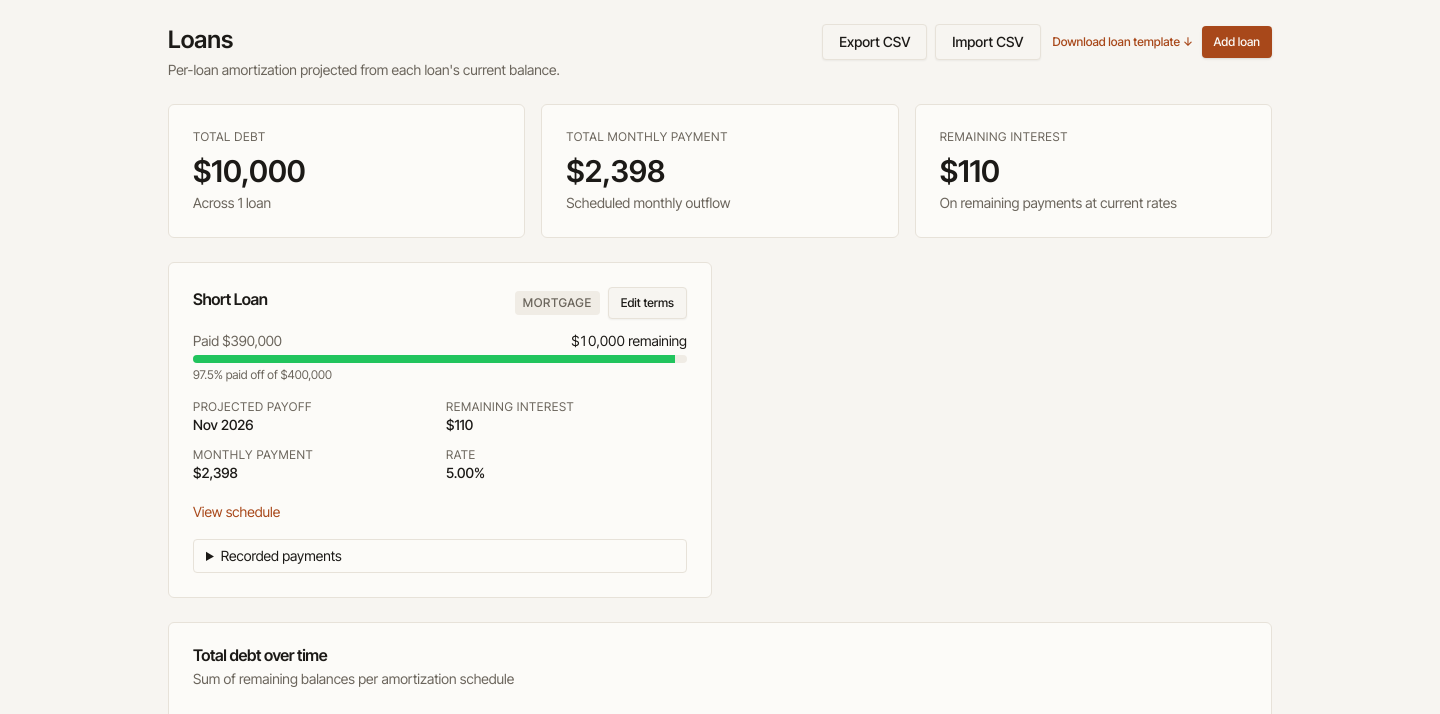
it: Loans page › handles a short loan (< 60 months) without truncation
Click the button "View schedule": {"x": 237, "y": 512} x1=193 y1=502 x2=280 y2=522
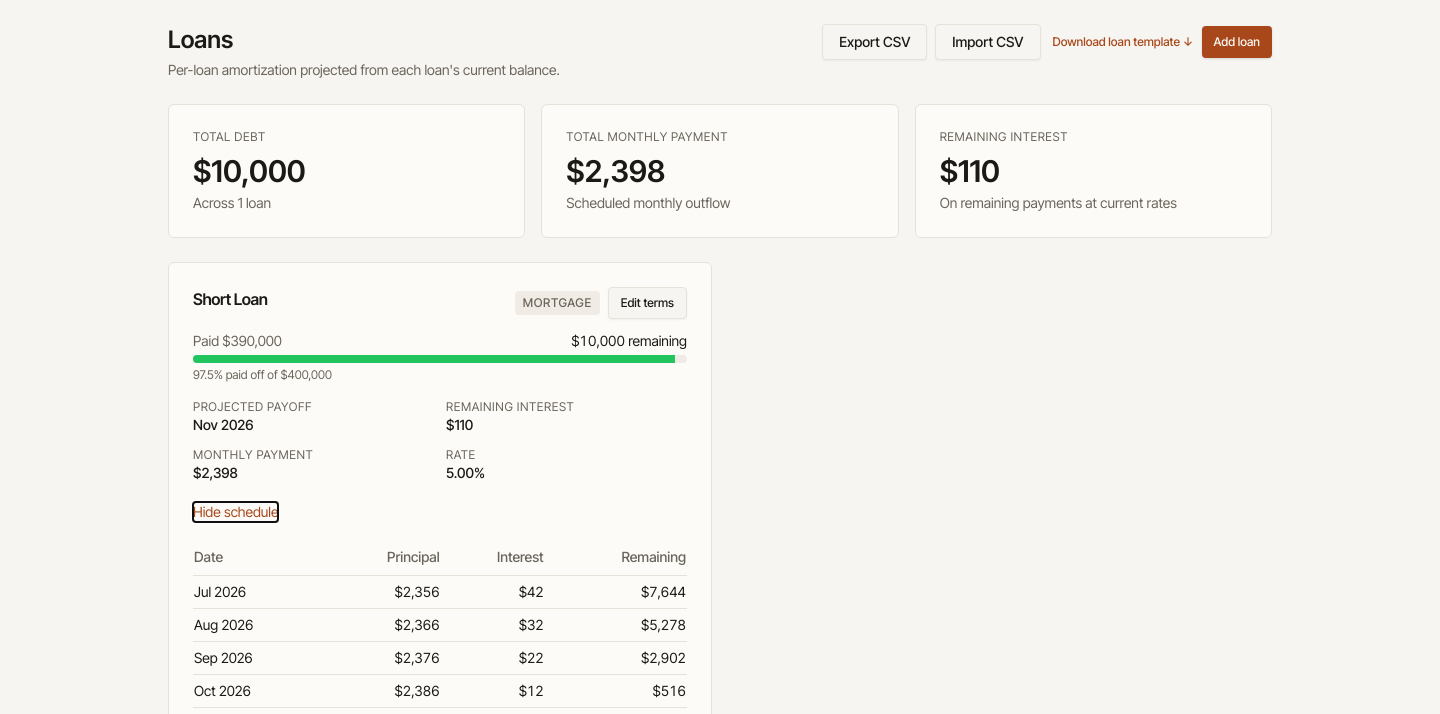
Result: the column heading "Date" is shown at x1=193 y1=539 x2=324 y2=576
